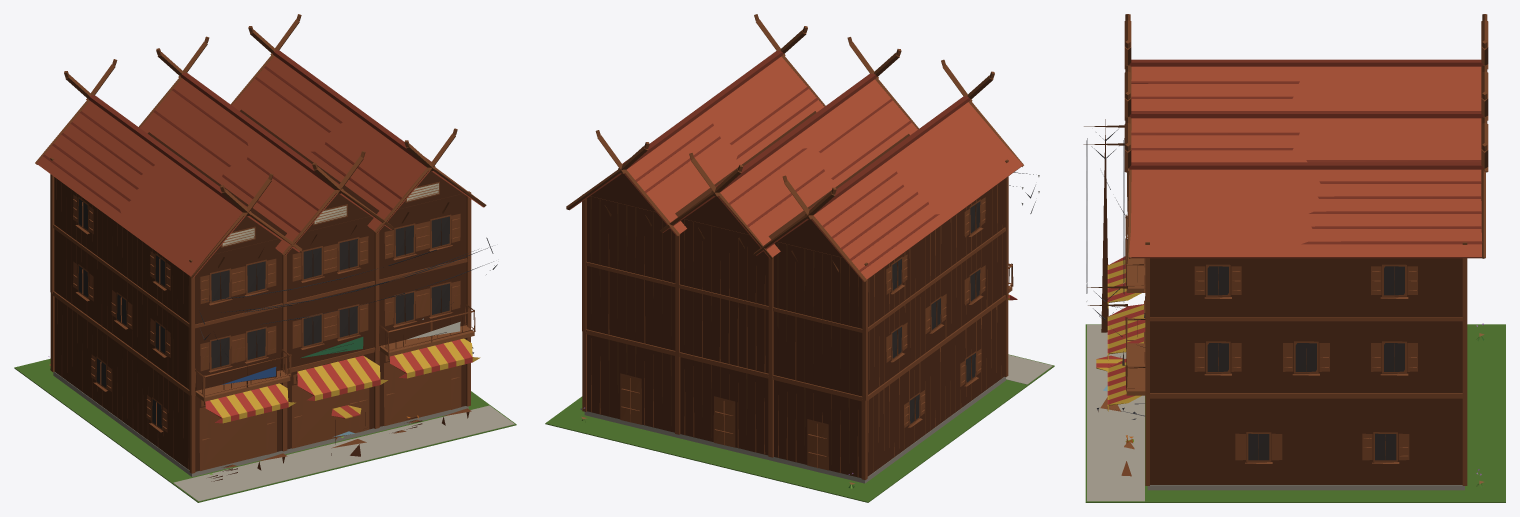
Rendered from shop_4.glb.
3 renders of one model, left to right at view 1: azimuth 30°, elevation 25°; view 2: azimuth 150°, elevation 25°; view 3: azimuth 270°, elevation 25°, orthographic. The views are drawn at different scales.
Parts seen in each view (by area): view 1: body, windows; view 2: body, windows; view 3: body, windows.
Part boxes in pixels (x1,y1,x2,y2): body: (14, 14, 516, 502); windows: (78, 199, 472, 428); body: (545, 14, 1054, 502); windows: (892, 201, 980, 423); body: (1083, 14, 1505, 502); windows: (1207, 266, 1404, 460).
Bounding box in the file's own units: 15.9 × 14.21 × 16.
